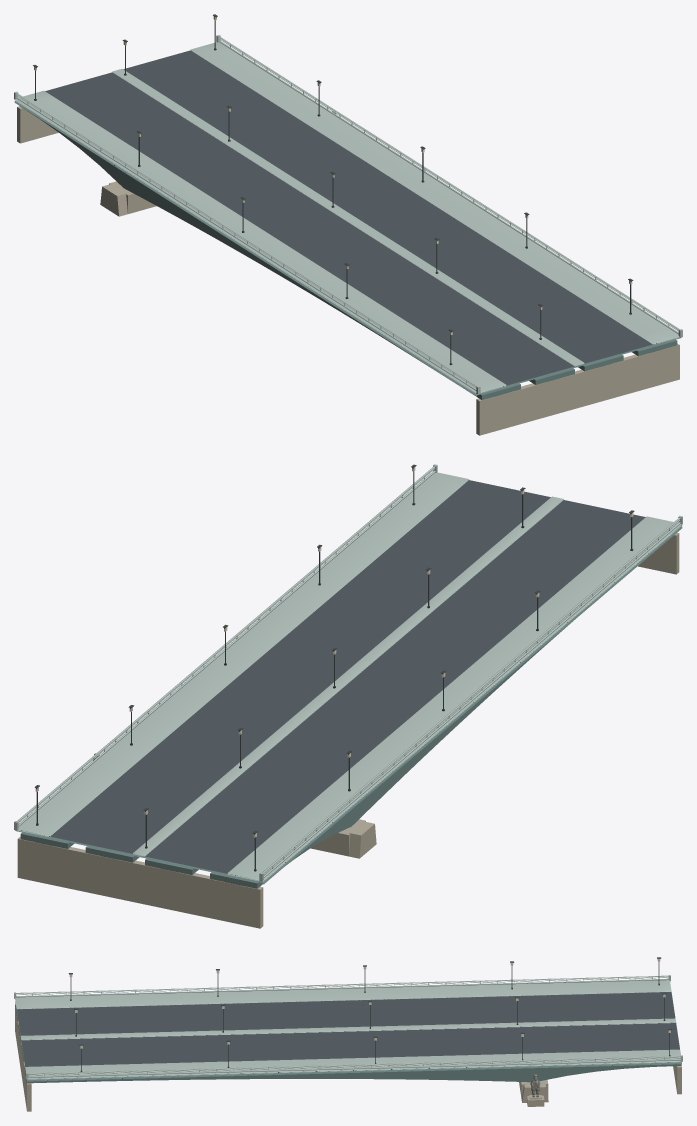
File: pont-de-l-alma-far.glb
The picture shows the model from 3 angles, top to bottom: view 1: azimuth 30°, elevation 25°; view 2: azimuth 150°, elevation 25°; view 3: azimuth 270°, elevation 25°; orthographic projection. The views are drawn at different scales.
Parts seen in each view (by area): view 1: pont-de-l-alma-0-asphalt, pont-de-l-alma-0-trim, pont-de-l-alma-0-stone, pont-de-l-alma-0-steel, pont-de-l-alma-0-iron; view 2: pont-de-l-alma-0-asphalt, pont-de-l-alma-0-trim, pont-de-l-alma-0-stone, pont-de-l-alma-0-steel, pont-de-l-alma-0-iron; view 3: pont-de-l-alma-0-asphalt, pont-de-l-alma-0-trim, pont-de-l-alma-0-steel, pont-de-l-alma-0-stone, pont-de-l-alma-0-iron.
Part boxes in pixels (left/top/right/bottom): pont-de-l-alma-0-asphalt: left=45, top=50, right=652, bottom=385; pont-de-l-alma-0-trim: left=14, top=35, right=682, bottom=394; pont-de-l-alma-0-stone: left=17, top=106, right=679, bottom=435; pont-de-l-alma-0-steel: left=14, top=101, right=681, bottom=399; pont-de-l-alma-0-iron: left=33, top=14, right=633, bottom=365; pont-de-l-alma-0-asphalt: left=50, top=480, right=645, bottom=873; pont-de-l-alma-0-trim: left=14, top=464, right=682, bottom=881; pont-de-l-alma-0-stone: left=17, top=532, right=679, bottom=928; pont-de-l-alma-0-steel: left=15, top=526, right=682, bottom=888; pont-de-l-alma-0-iron: left=34, top=464, right=634, bottom=871; pont-de-l-alma-0-asphalt: left=16, top=992, right=679, bottom=1066; pont-de-l-alma-0-trim: left=14, top=975, right=682, bottom=1079; pont-de-l-alma-0-steel: left=15, top=999, right=681, bottom=1083; pont-de-l-alma-0-stone: left=15, top=1005, right=681, bottom=1111; pont-de-l-alma-0-iron: left=68, top=957, right=671, bottom=1071.
Bounding box in the file's own units: 50.86 × 14.65 × 145.
